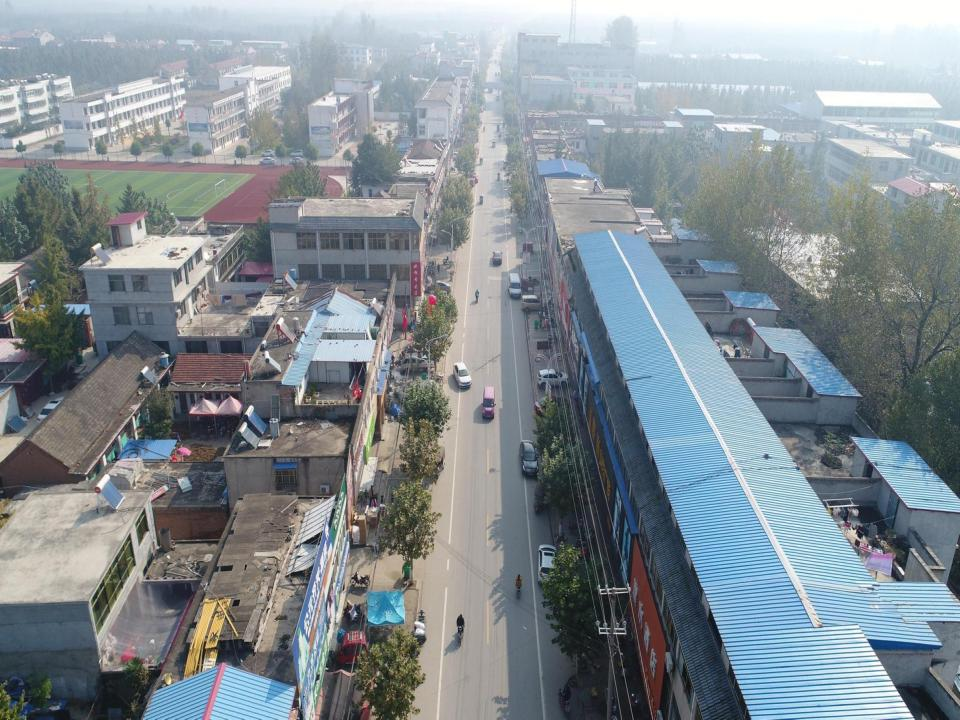car: (37, 395, 68, 430), (337, 631, 368, 665), (537, 544, 557, 586), (519, 439, 538, 477), (538, 369, 568, 389), (453, 362, 472, 388), (424, 282, 450, 294), (492, 251, 502, 265), (469, 167, 477, 178), (471, 174, 478, 184)
truck: (400, 353, 435, 373)
van: (398, 379, 436, 403), (482, 387, 496, 418), (522, 295, 544, 312), (508, 272, 520, 298), (452, 152, 463, 162), (503, 158, 510, 170), (492, 141, 496, 148)
